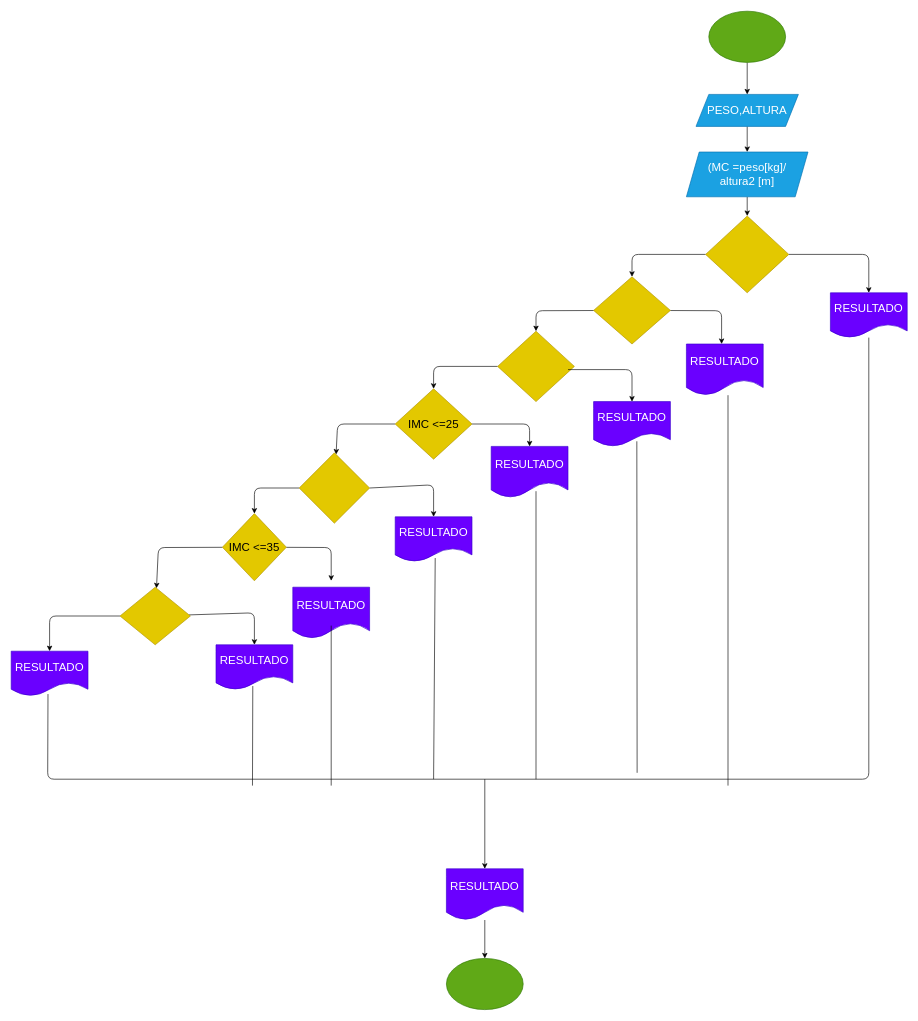
The diagram is 918 pixels wide and 1021 high, and some of its shapes have lost their labels. Here are the shapes that lost their labels. From the top down, the box of each, then its label:
(708, 11, 786, 62): INICIO
(705, 215, 789, 293): IMC <=10
(593, 276, 670, 344): IMC <=17
(497, 331, 574, 402): IMC <=18
(299, 452, 370, 523): IMC <=30
(119, 587, 190, 645): IMC <=40
(446, 958, 523, 1010): FIN
